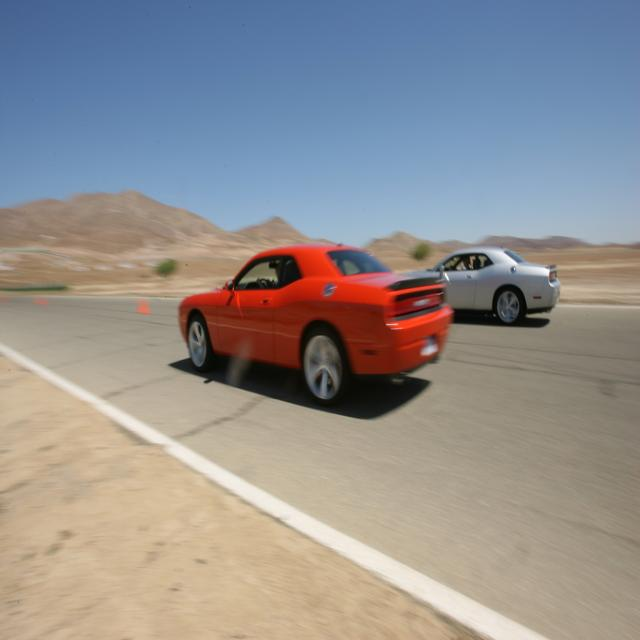car: (176, 243, 450, 405)
